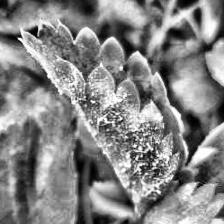Powdery Mildew Leaf: (15, 20, 195, 222), (184, 114, 223, 224), (139, 180, 223, 224)
